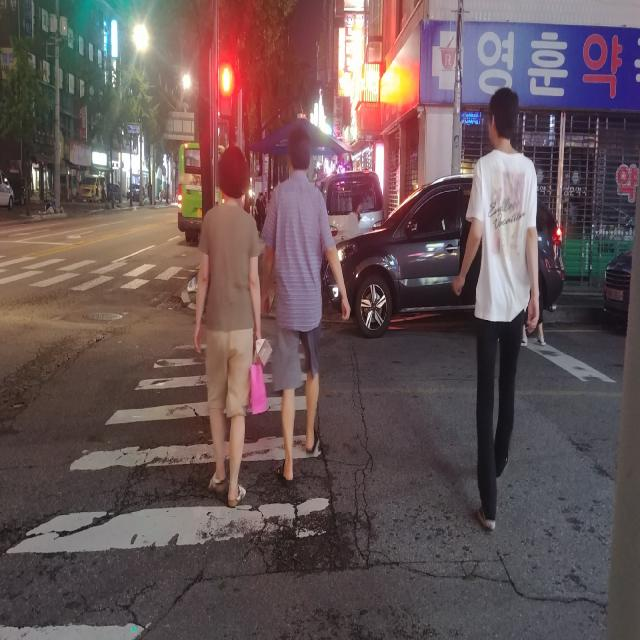빨간불: (217, 64, 235, 128)
횡단보도: (0, 332, 333, 640)
